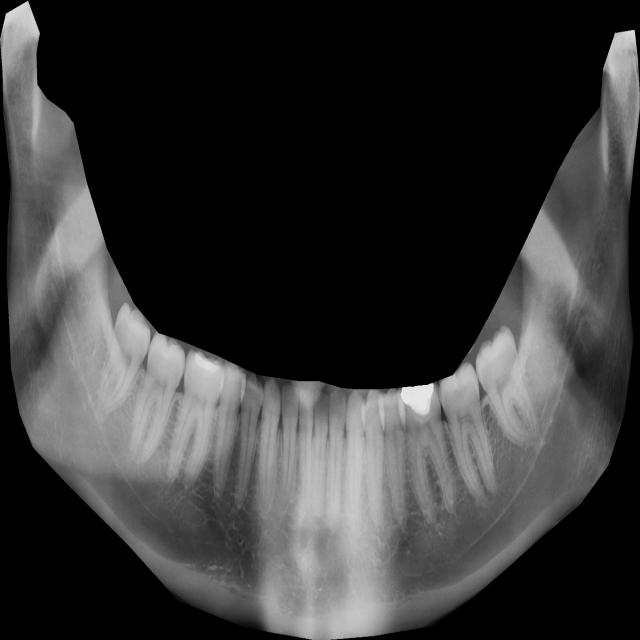mandibula: (0, 1, 640, 640)
